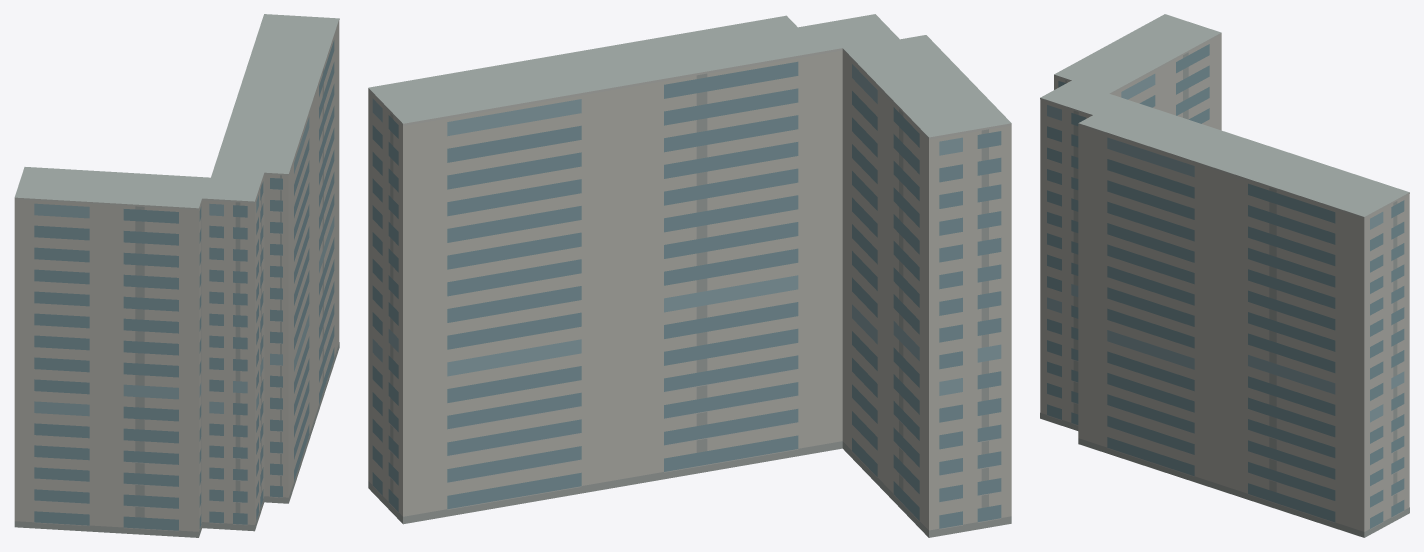
File: residential-f562a7ff-45e7-442a-bf51-2270059f44ac.glb
The picture shows the model from 3 angles, left to right: view 1: azimuth 30°, elevation 25°; view 2: azimuth 150°, elevation 25°; view 3: azimuth 270°, elevation 25°; orthographic projection. The views are drawn at different scales.
Visible parts, largest first — view 1: residential-f562a7ff-45e7-442a-bf51-2270059f44ac.tmp; view 2: residential-f562a7ff-45e7-442a-bf51-2270059f44ac.tmp; view 3: residential-f562a7ff-45e7-442a-bf51-2270059f44ac.tmp.
Part boxes in pixels (<box>): residential-f562a7ff-45e7-442a-bf51-2270059f44ac.tmp: <box>14,14,339,537</box>; residential-f562a7ff-45e7-442a-bf51-2270059f44ac.tmp: <box>368,14,1011,537</box>; residential-f562a7ff-45e7-442a-bf51-2270059f44ac.tmp: <box>1040,14,1409,537</box>.
Size of the model in its own units: 62.07 by 45.75 by 47.77.
